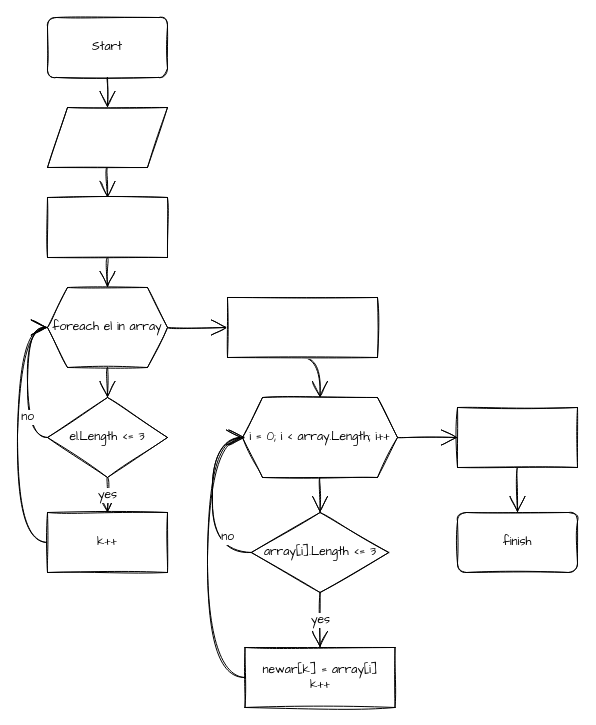
This 596x725 diagram has some shape labels left out. The box of each missing label's shape, as (x1, y1, x2, y2) in pixels:
array: (46, 106, 168, 168)
k = 0: (46, 196, 168, 258)
newar = new string[k] k = 0: (226, 296, 378, 358)
return newar: (456, 406, 578, 468)
